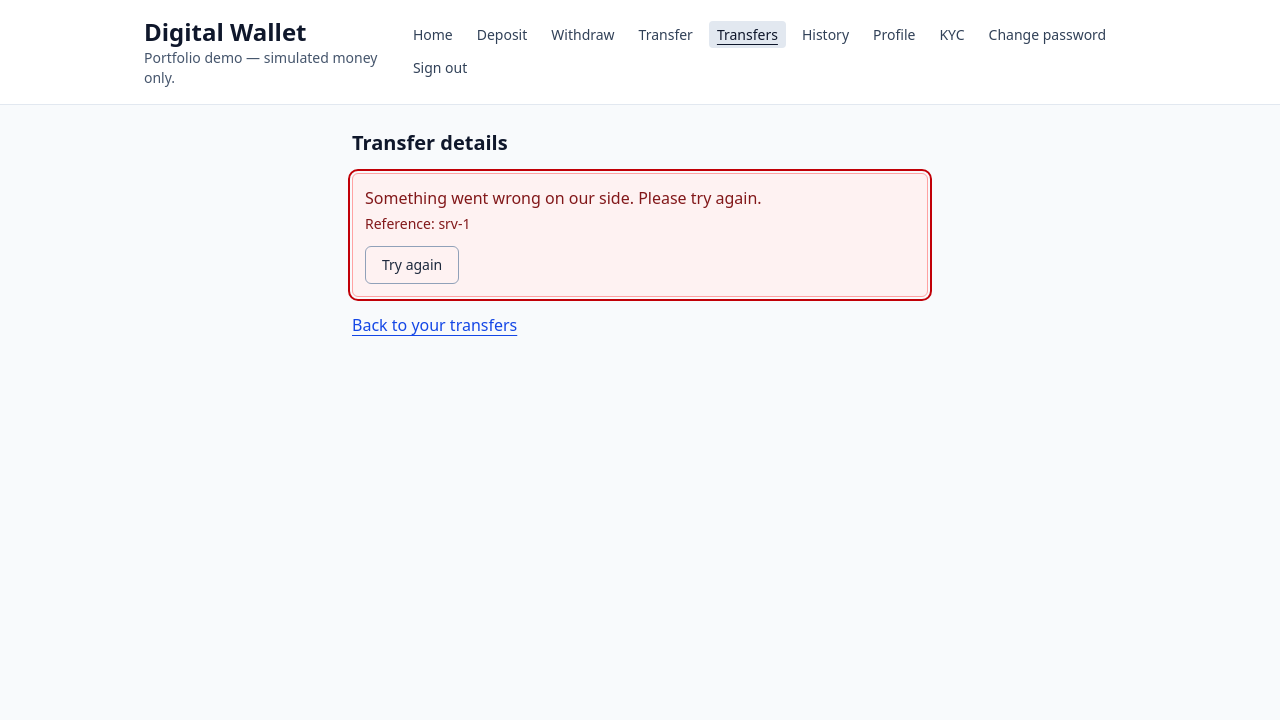
Scenario: Transfer detail › shows another load error with a retry
The image size is (1280, 720).
Click the button "Try again": (412, 265) [365, 246, 459, 284]
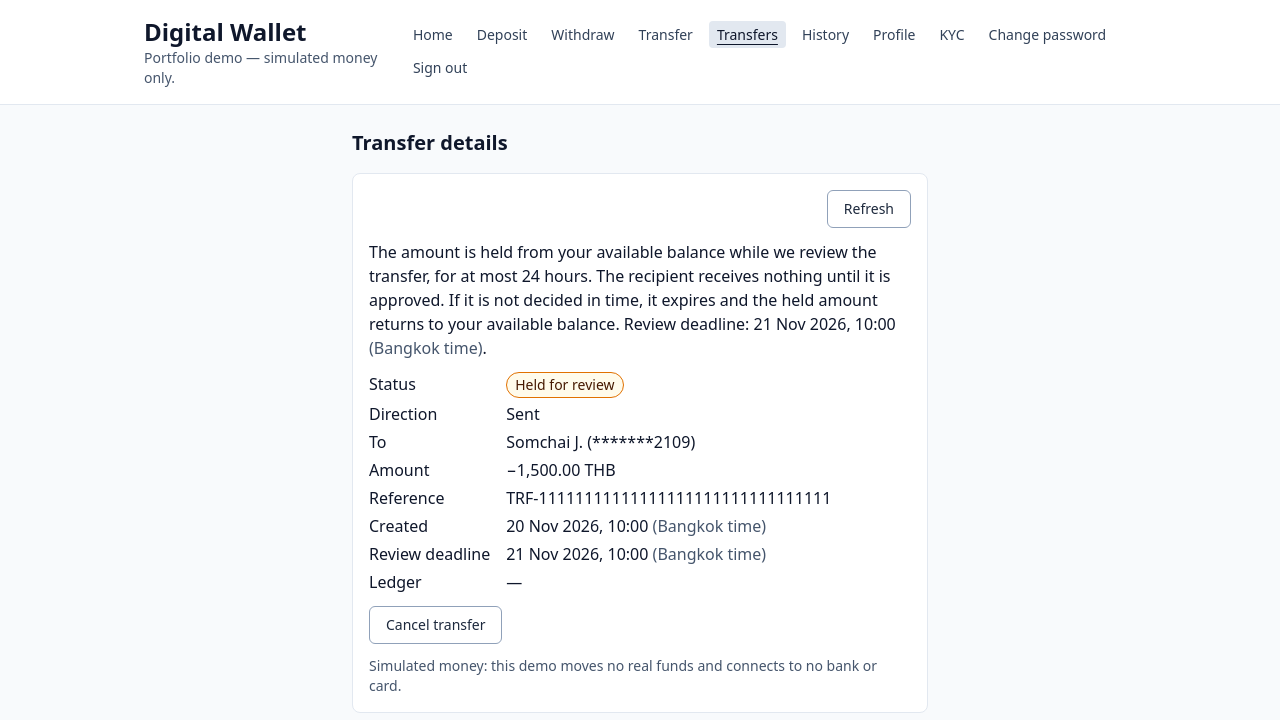
Expected: the text "TRF-11111111111111111111111111111111" is shown, [506, 487, 831, 509]
